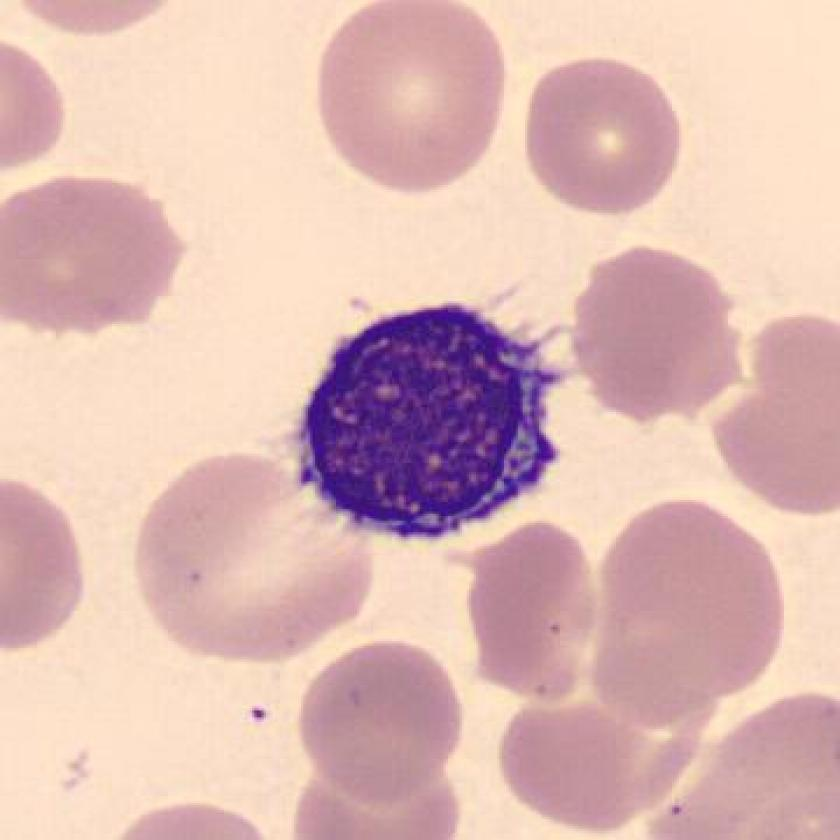lymphocyte: (279, 279, 568, 559)
